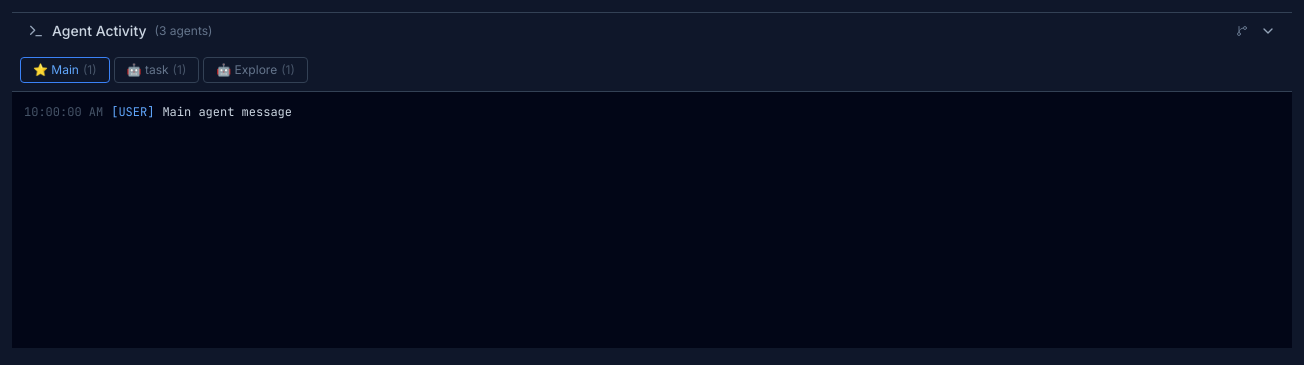
Test: AgentLogsPanel › Agent switching › should switch to task agent when tab is clicked
Step 1. Click the button "🤖 task(1)" → (156, 70), box [114,57,199,83]
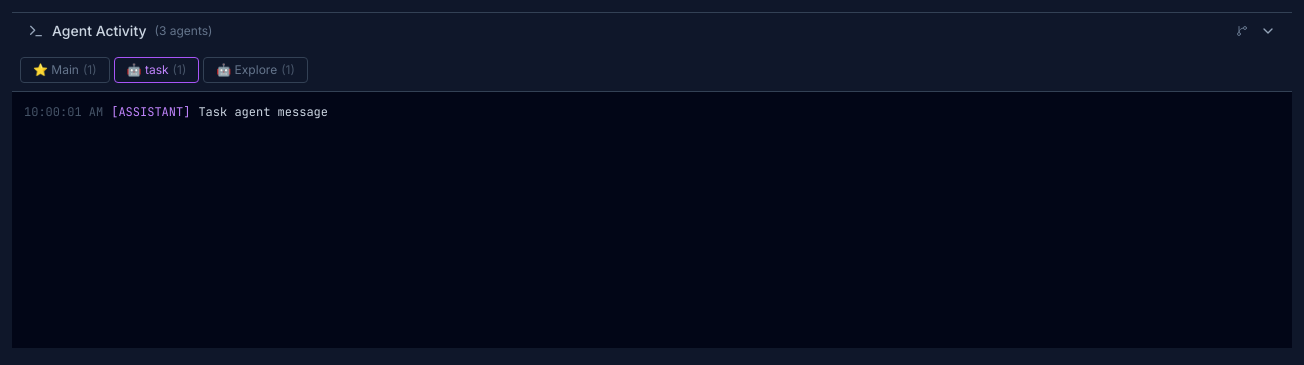
Result: the text "Task agent message" is shown at [198,104,328,120]
